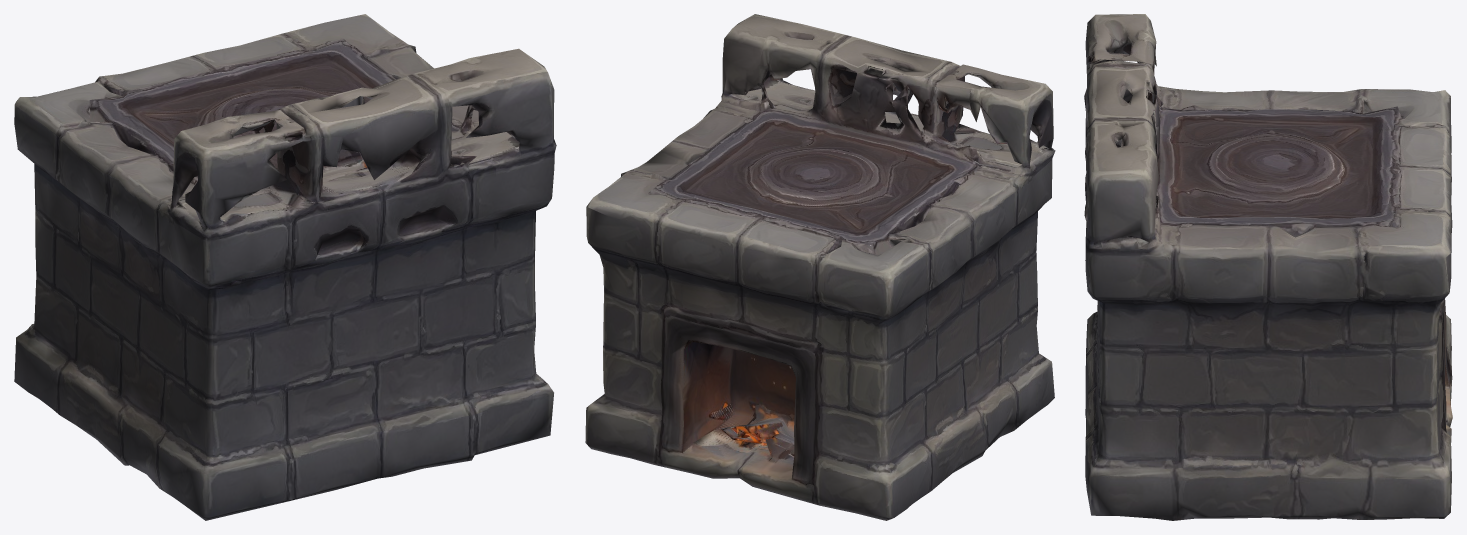
The model's file is SM_Env_CookingRange.fbx.
3 views of the same model, side by side, from view 1: azimuth 30°, elevation 25°; view 2: azimuth 150°, elevation 25°; view 3: azimuth 270°, elevation 25° (orthographic). The views are drawn at different scales.
Visible parts, largest first — view 1: SM_Env_CookingRange; view 2: SM_Env_CookingRange; view 3: SM_Env_CookingRange.
Part boxes in pixels (left/top/right/bottom): SM_Env_CookingRange: left=14, top=14, right=556, bottom=520; SM_Env_CookingRange: left=585, top=14, right=1055, bottom=520; SM_Env_CookingRange: left=1084, top=14, right=1452, bottom=520.
Size of the model in its own units: 0.9 by 0.9 by 0.85.
